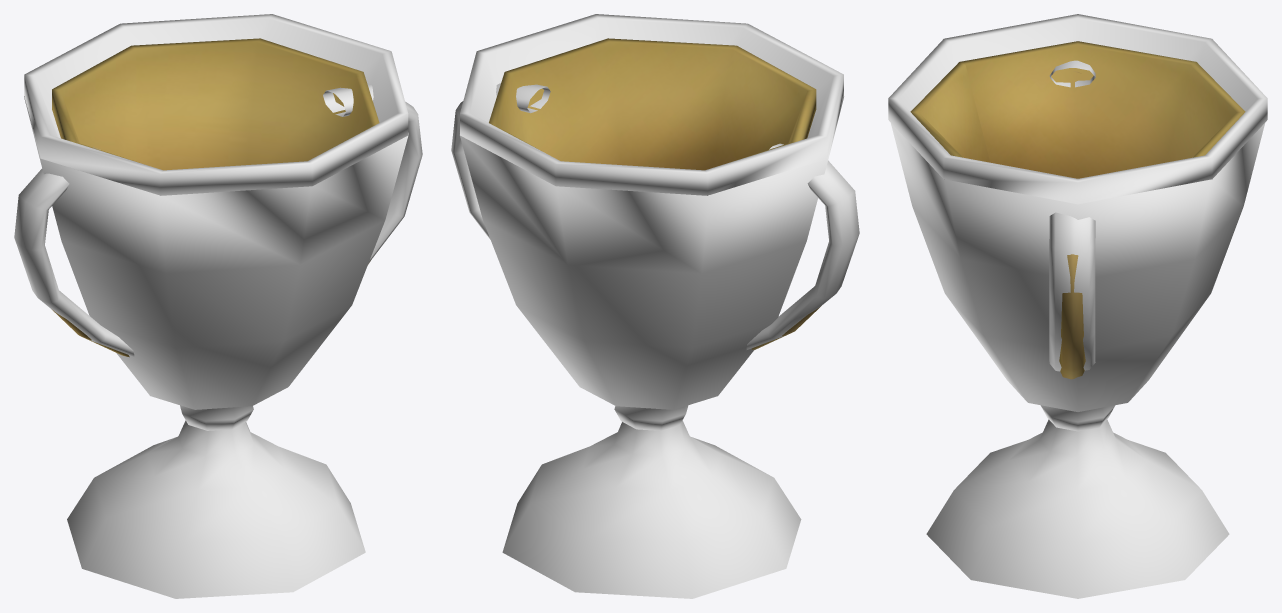
Rendered from trofeu.fbx.
3 views of the same model, side by side, from view 1: azimuth 30°, elevation 25°; view 2: azimuth 150°, elevation 25°; view 3: azimuth 270°, elevation 25° (orthographic).
Visible parts, largest first — view 1: Trofeu; view 2: Trofeu; view 3: Trofeu.
Boxes of the visible parts, <box> form: Trofeu: <box>14,14,422,598</box>; Trofeu: <box>451,14,859,598</box>; Trofeu: <box>888,14,1267,598</box>.
Bounding box in the file's own units: 532 × 566 × 446.
